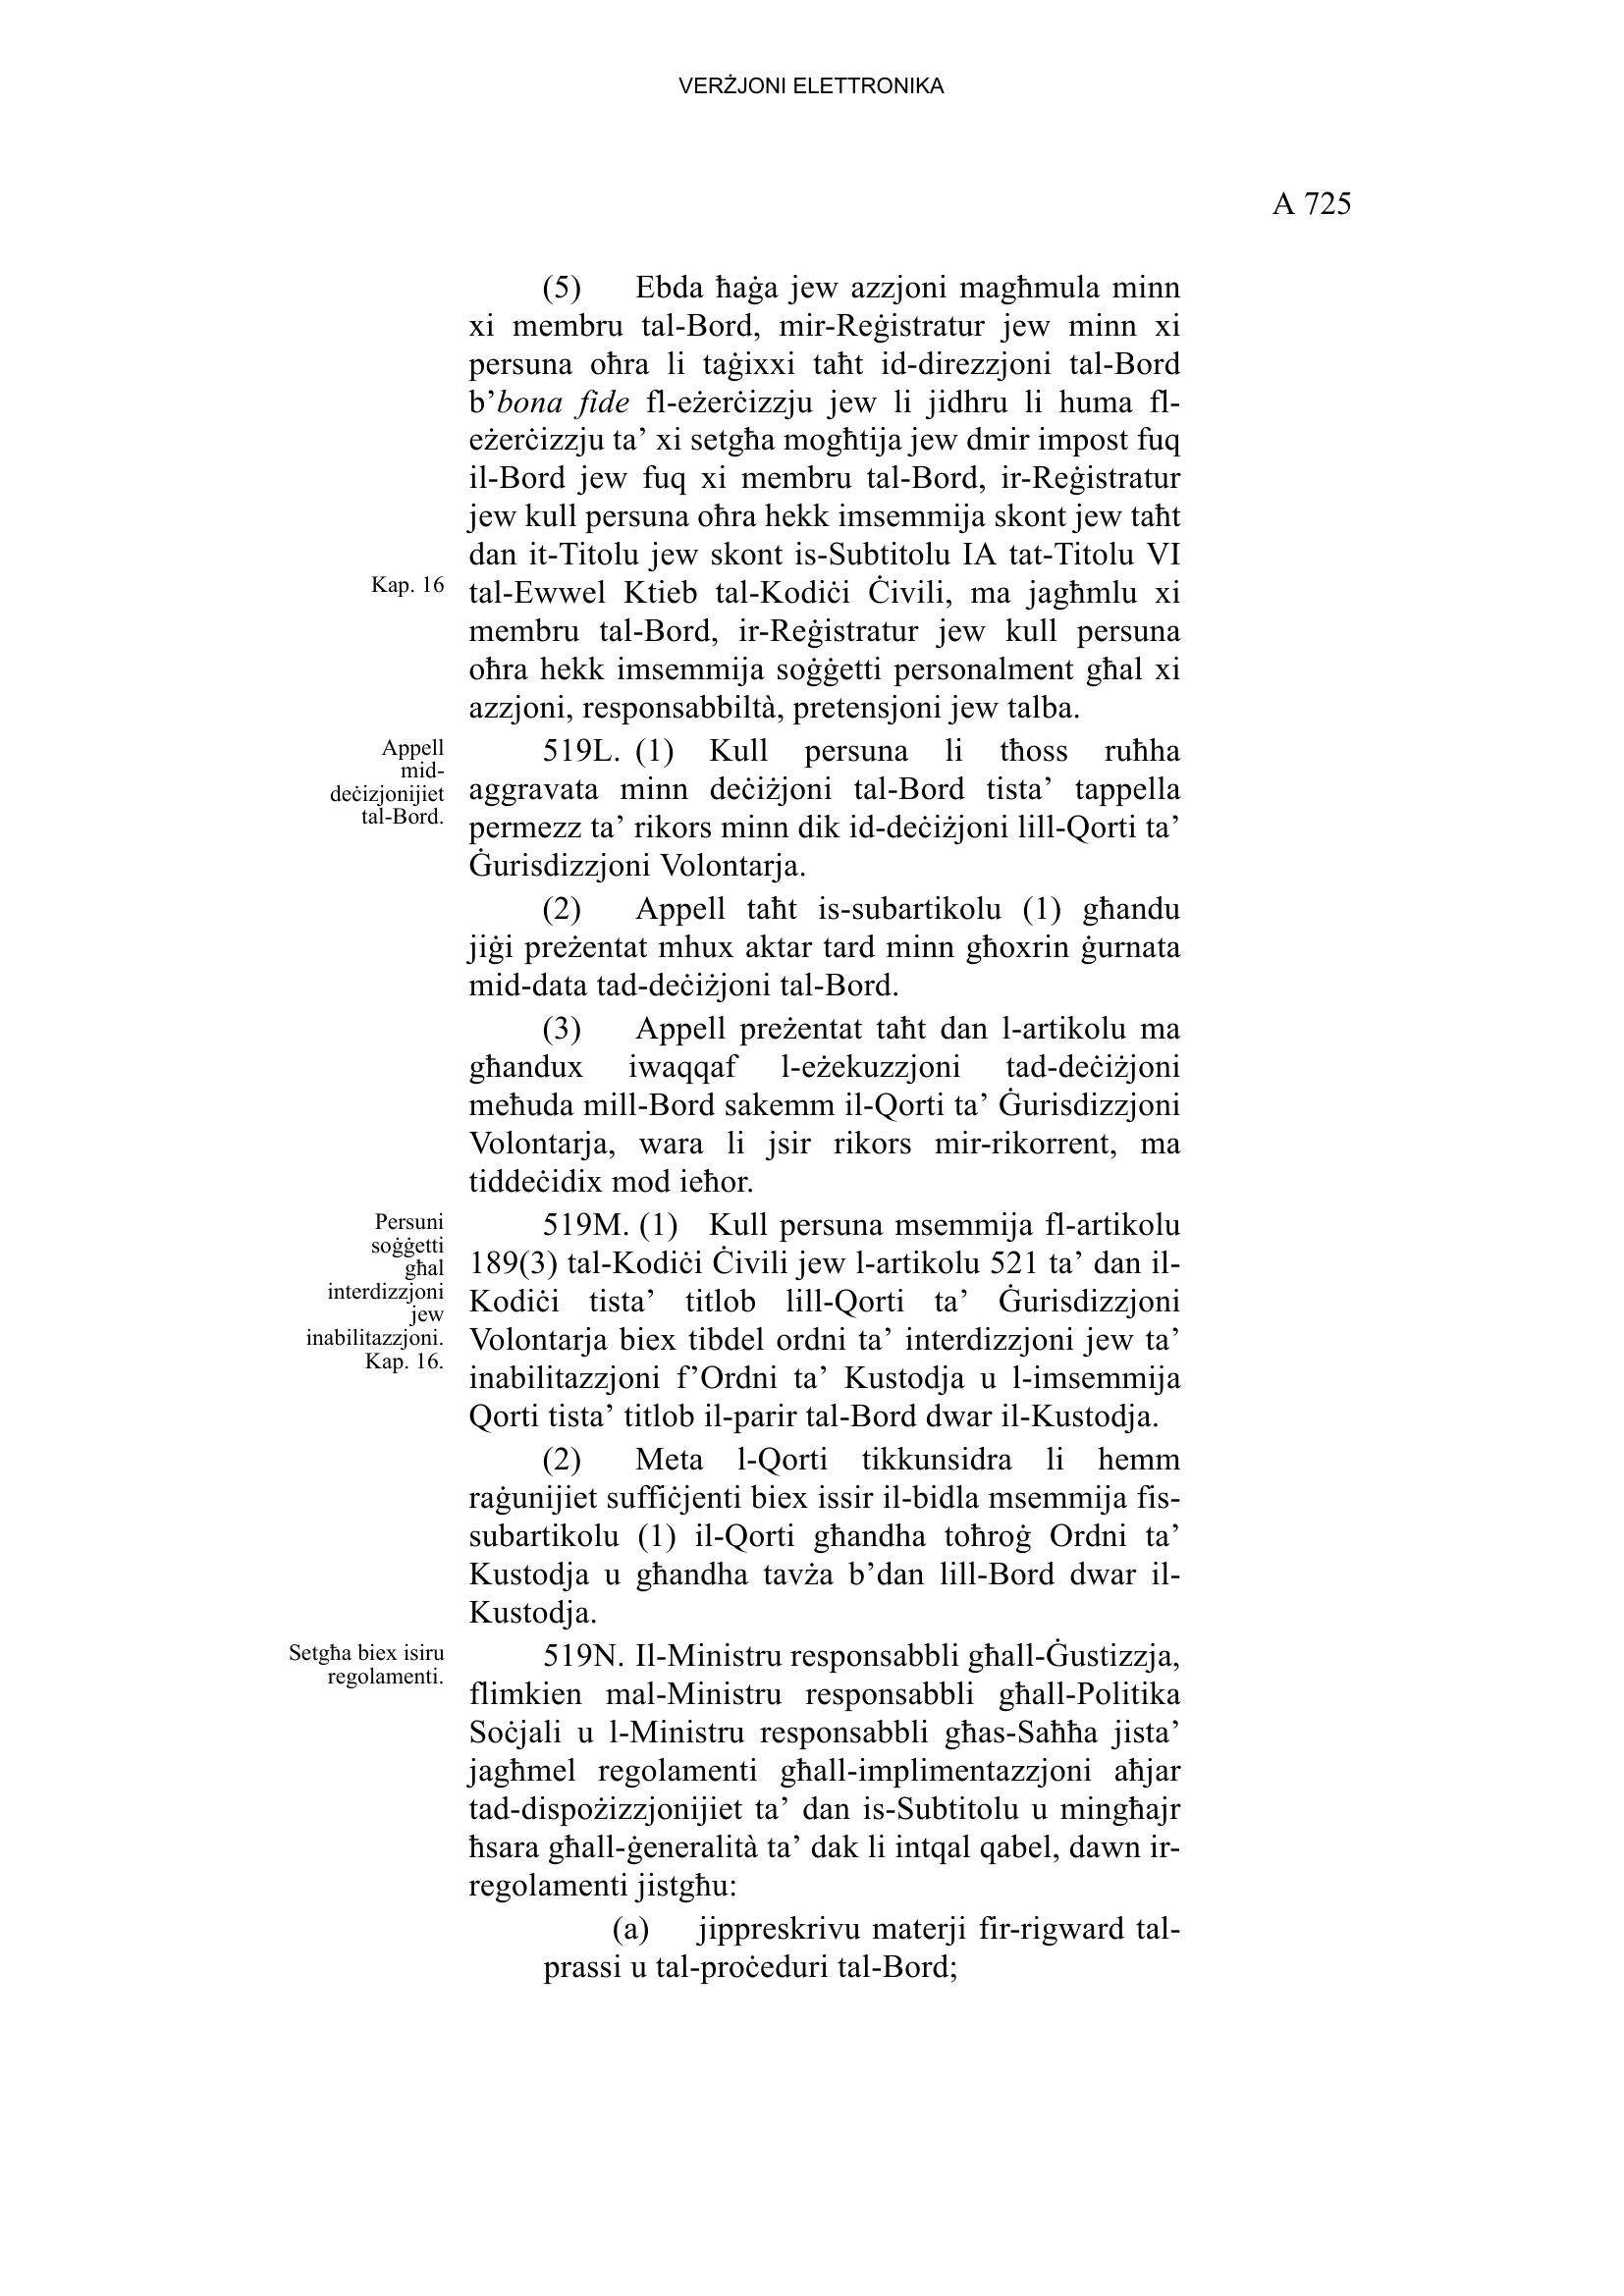text: (459, 255, 1209, 2017)
